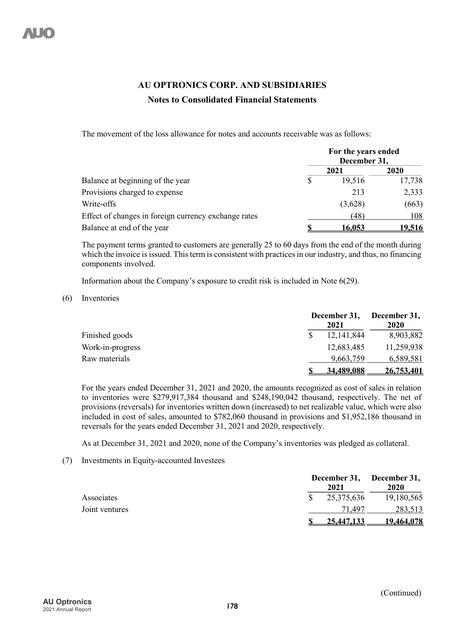box: (75, 145, 424, 234), (80, 456, 428, 528), (80, 311, 425, 376)
